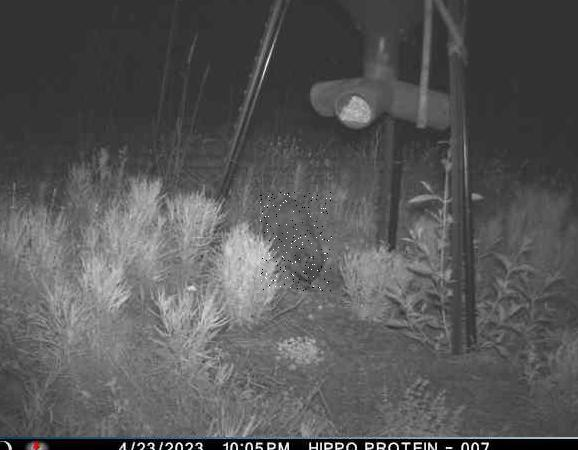Raccoon: (261, 193, 333, 292)
